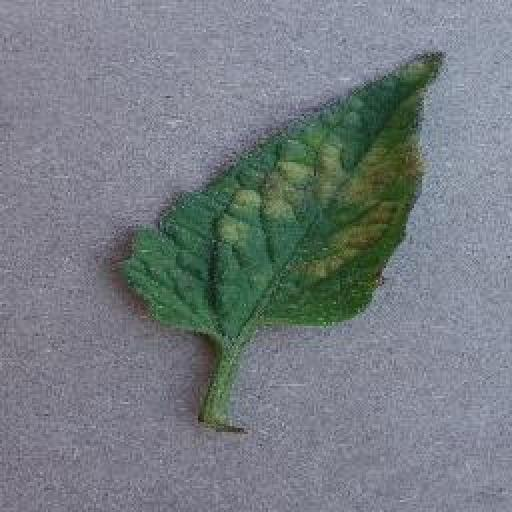disease_tomato: (118, 47, 444, 332)
